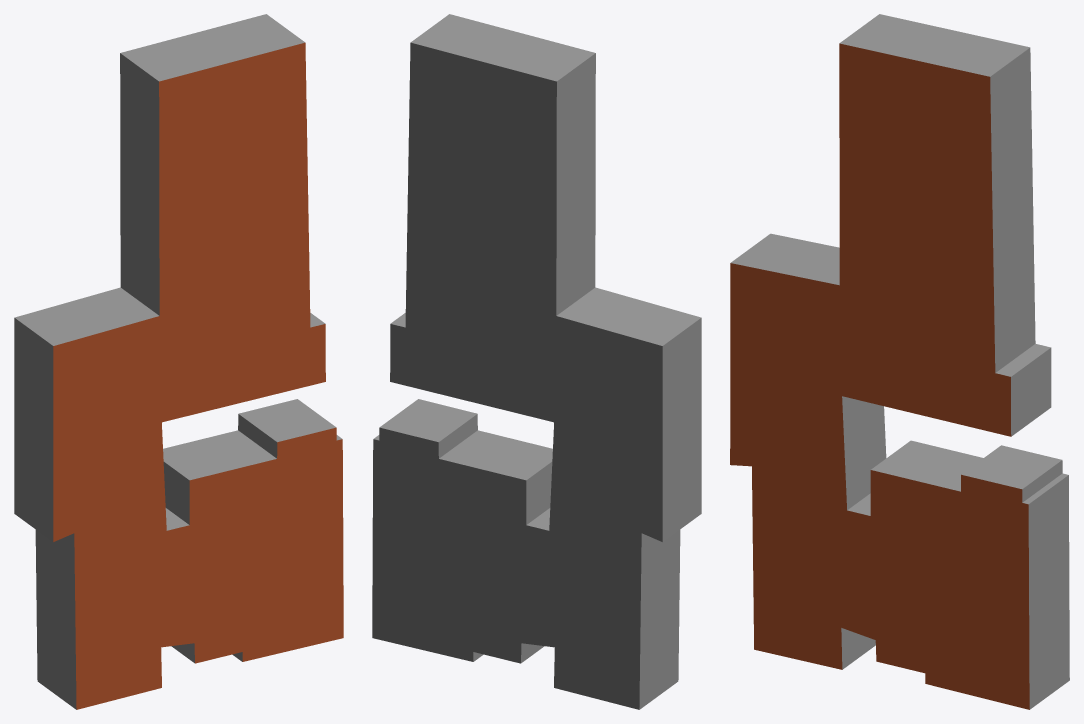
File: construction_7026_assumed_A_Casa_h6m.obj
3 views of the same model, side by side, from view 1: azimuth 30°, elevation 25°; view 2: azimuth 150°, elevation 25°; view 3: azimuth 330°, elevation 25° (orthographic). The views are drawn at different scales.
Visible parts, largest first — view 1: construction_7026_assumed_A_Casa; view 2: construction_7026_assumed_A_Casa; view 3: construction_7026_assumed_A_Casa.
Boxes of the visible parts, <box> form: construction_7026_assumed_A_Casa: <box>14,14,343,709</box>; construction_7026_assumed_A_Casa: <box>372,14,701,709</box>; construction_7026_assumed_A_Casa: <box>730,14,1069,709</box>.
Bounding box in the file's own units: 25.8 × 51.89 × 6.
